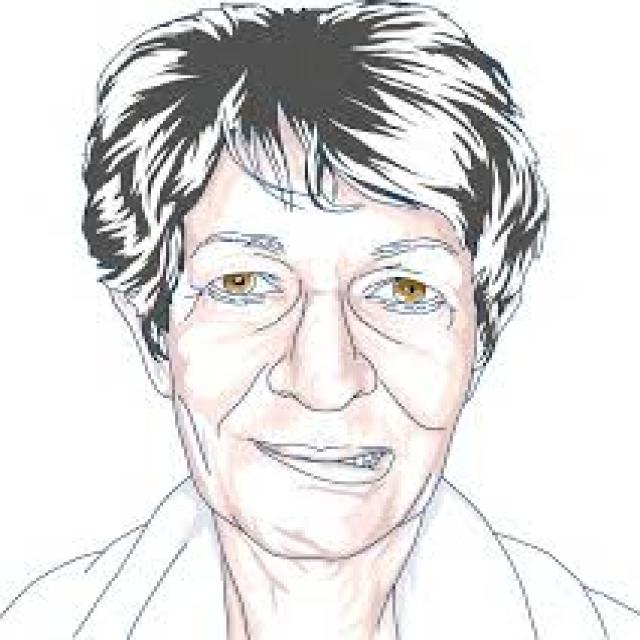stroke_face: (105, 10, 549, 558)
